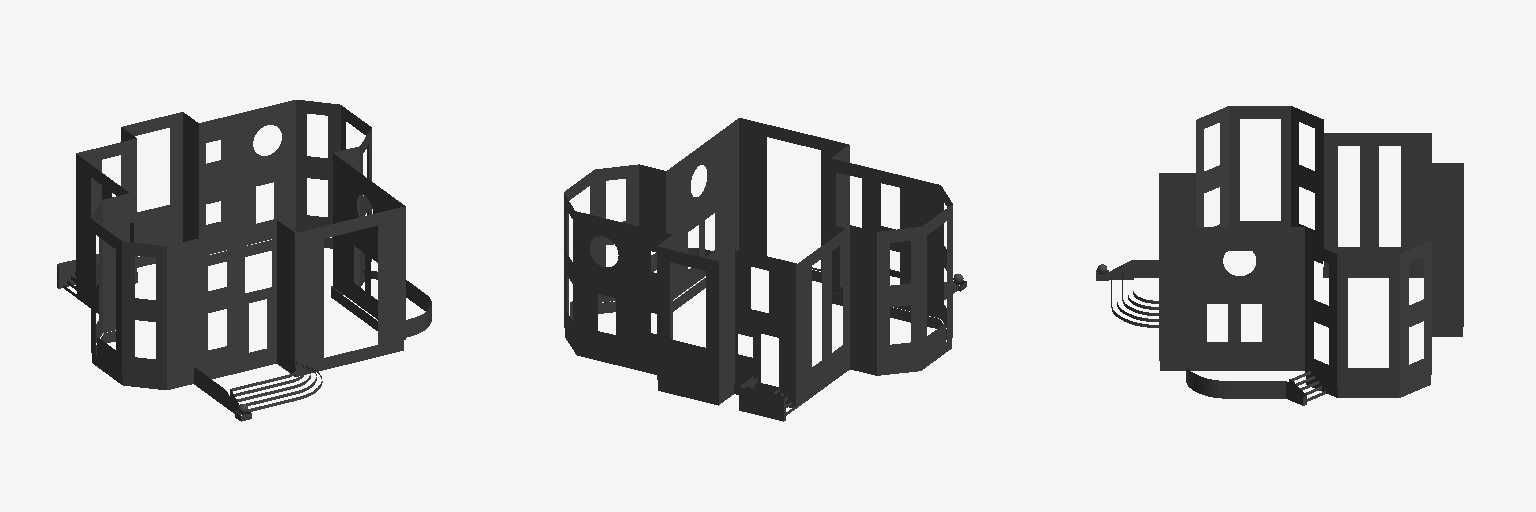
The model's file is OutsideWalls.obj.
3 views of the same model, side by side, from view 1: azimuth 30°, elevation 25°; view 2: azimuth 150°, elevation 25°; view 3: azimuth 270°, elevation 25° (orthographic).
Visible parts, largest first — view 1: Body; view 2: Body; view 3: Body.
Part boxes in pixels (left/top/right/bottom): Body: left=57, top=100, right=431, bottom=421; Body: left=564, top=118, right=966, bottom=421; Body: left=1096, top=106, right=1463, bottom=405.
Bounding box in the file's own units: 9.59 × 4.16 × 9.58.